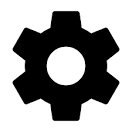settings: (3, 6, 124, 125)
